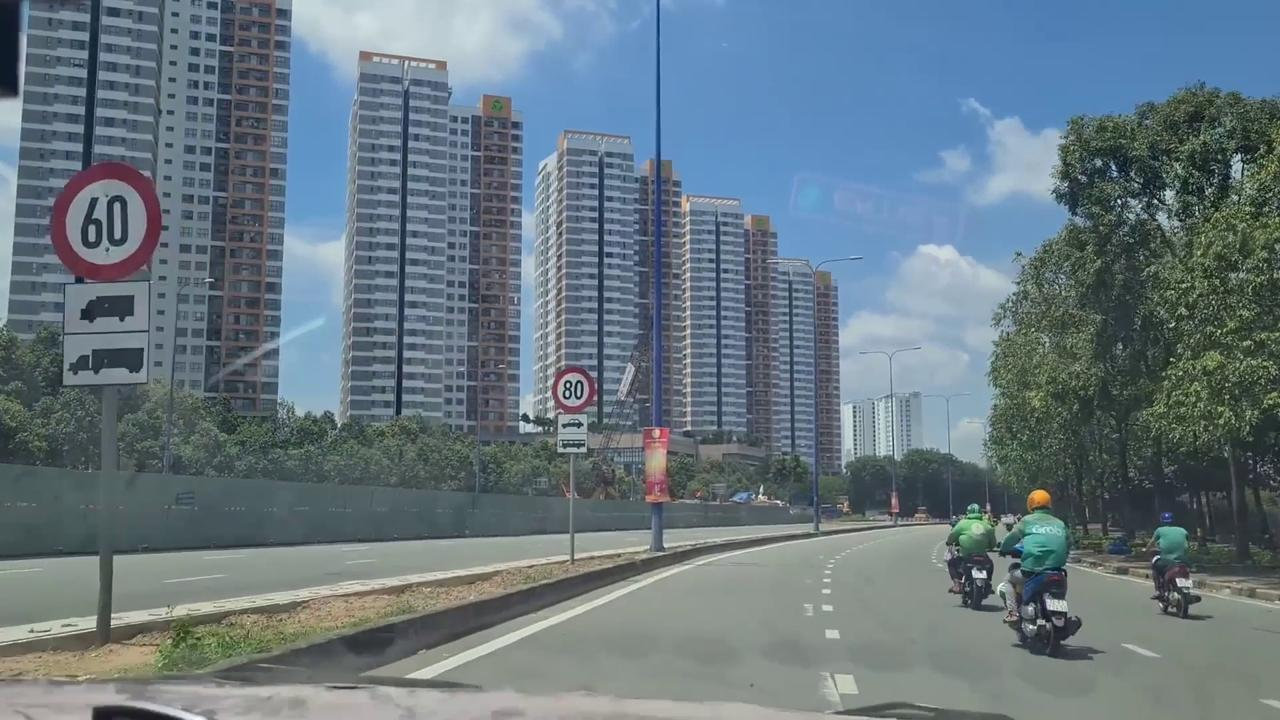Biển phụ: (59, 280, 150, 386), (556, 412, 588, 453)
GIơi hạn tốc độ 60Km/h: (49, 162, 163, 284)
Giới hạn tốc độ 80Km/h: (552, 366, 596, 413)
